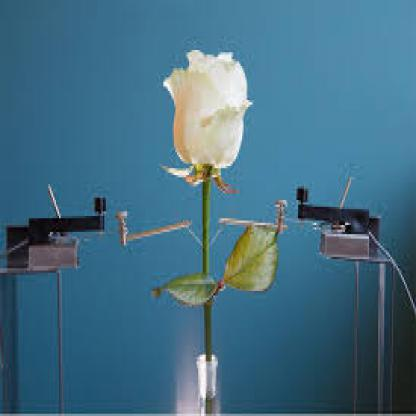Rose-Mawar: (164, 47, 252, 179)
